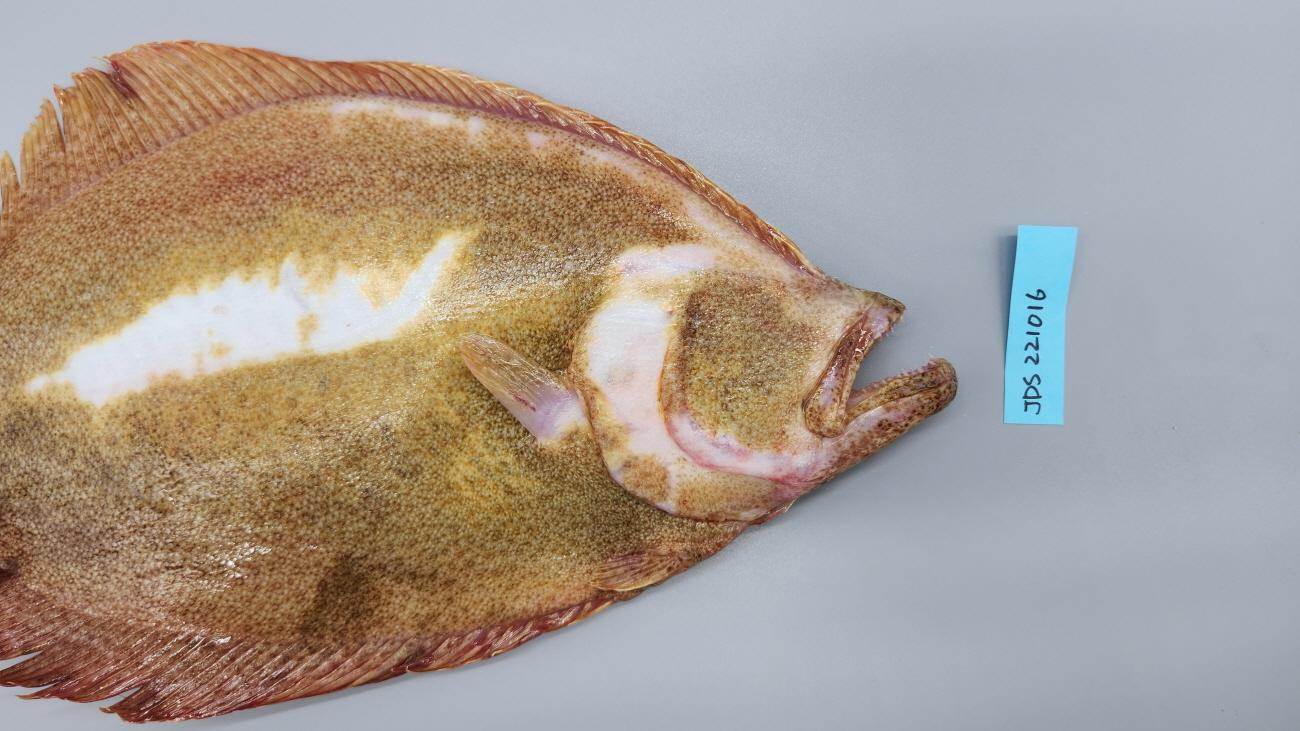POOUN: (0, 41, 958, 724)
